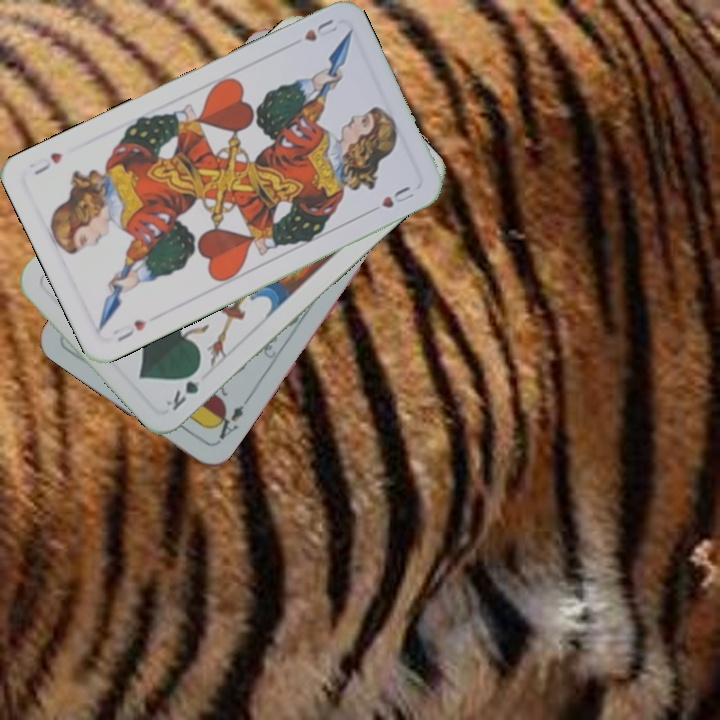EA: (207, 401, 247, 446)
GK: (161, 363, 204, 414)
HU: (300, 15, 341, 44), (113, 315, 150, 344)
